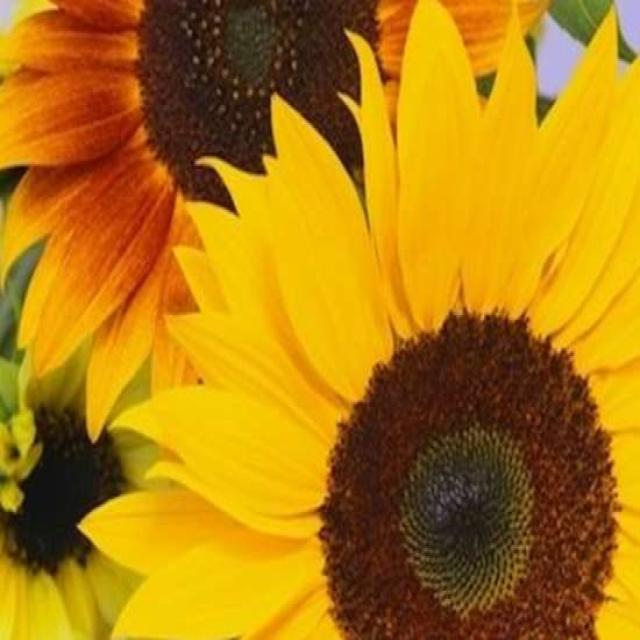sunflower: (115, 15, 640, 640), (0, 0, 555, 473)
